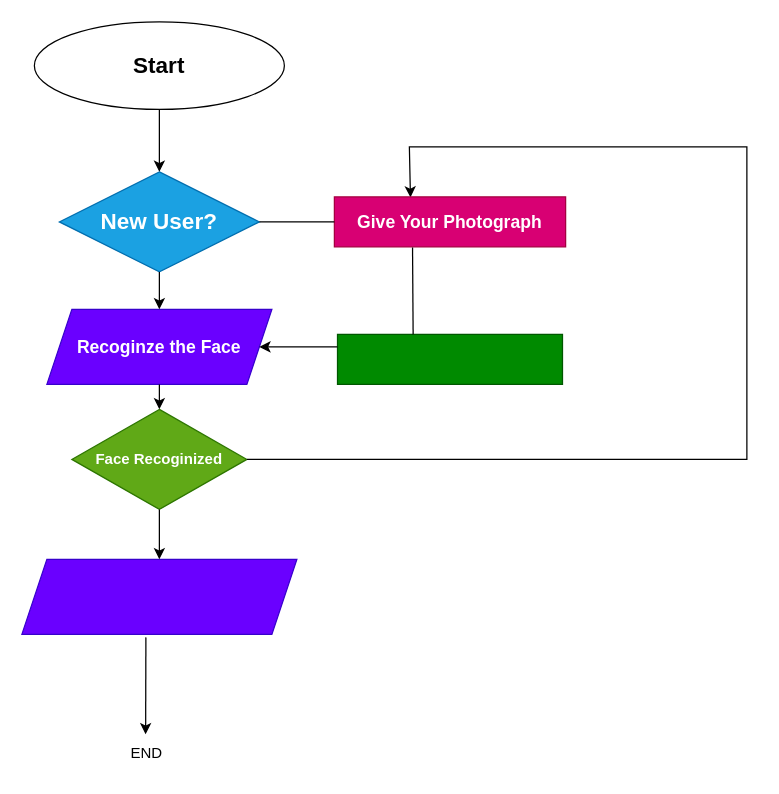
The diagram is 779 pixels wide and 794 high, and some of its shapes have lost their labels. Here are the shapes that lost their labels. From the top down, the centre of each, then its label:
[449,358]: Store the face data in folder on your name
[159,596]: Stored in CSV File With registration number And Date Time of Entity
